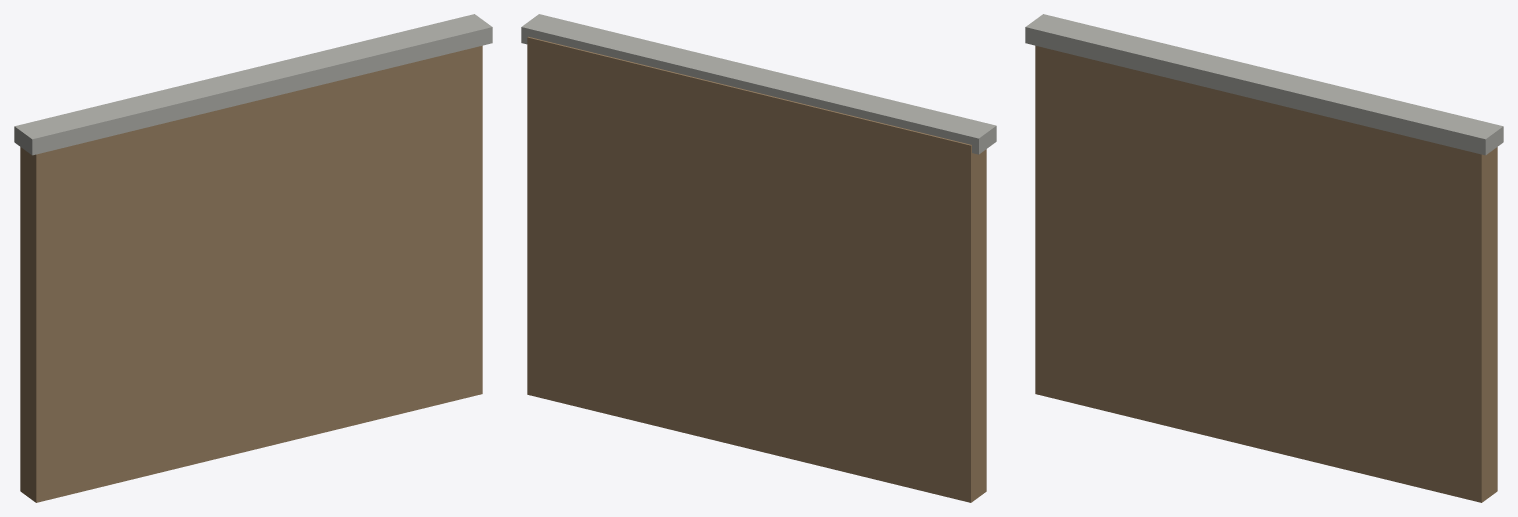
Rendered from 33_OTrong.glb.
3 renders of one model, left to right at view 1: azimuth 30°, elevation 25°; view 2: azimuth 150°, elevation 25°; view 3: azimuth 330°, elevation 25°, orthographic.
Parts seen in each view (by area): view 1: base, edge; view 2: base, edge; view 3: base, edge.
Boxes of the visible parts, x1,y1,x2,y2 form: base: (20, 45, 482, 502); edge: (14, 14, 492, 155); base: (527, 36, 986, 502); edge: (521, 14, 996, 154); base: (1035, 45, 1497, 502); edge: (1025, 14, 1503, 155).
Size of the model in its own units: 2.68 by 2.04 by 0.19.
